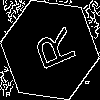R: (25, 25, 77, 76)
